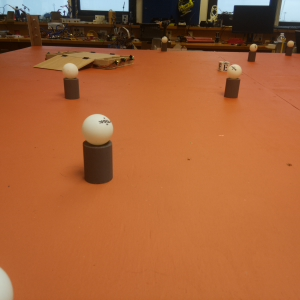obstacle: (84, 116, 117, 188), (225, 65, 243, 101), (63, 63, 80, 101), (248, 43, 258, 65), (285, 41, 294, 57), (162, 37, 168, 55)
side: (94, 57, 137, 69)
slope: (34, 56, 91, 71)
